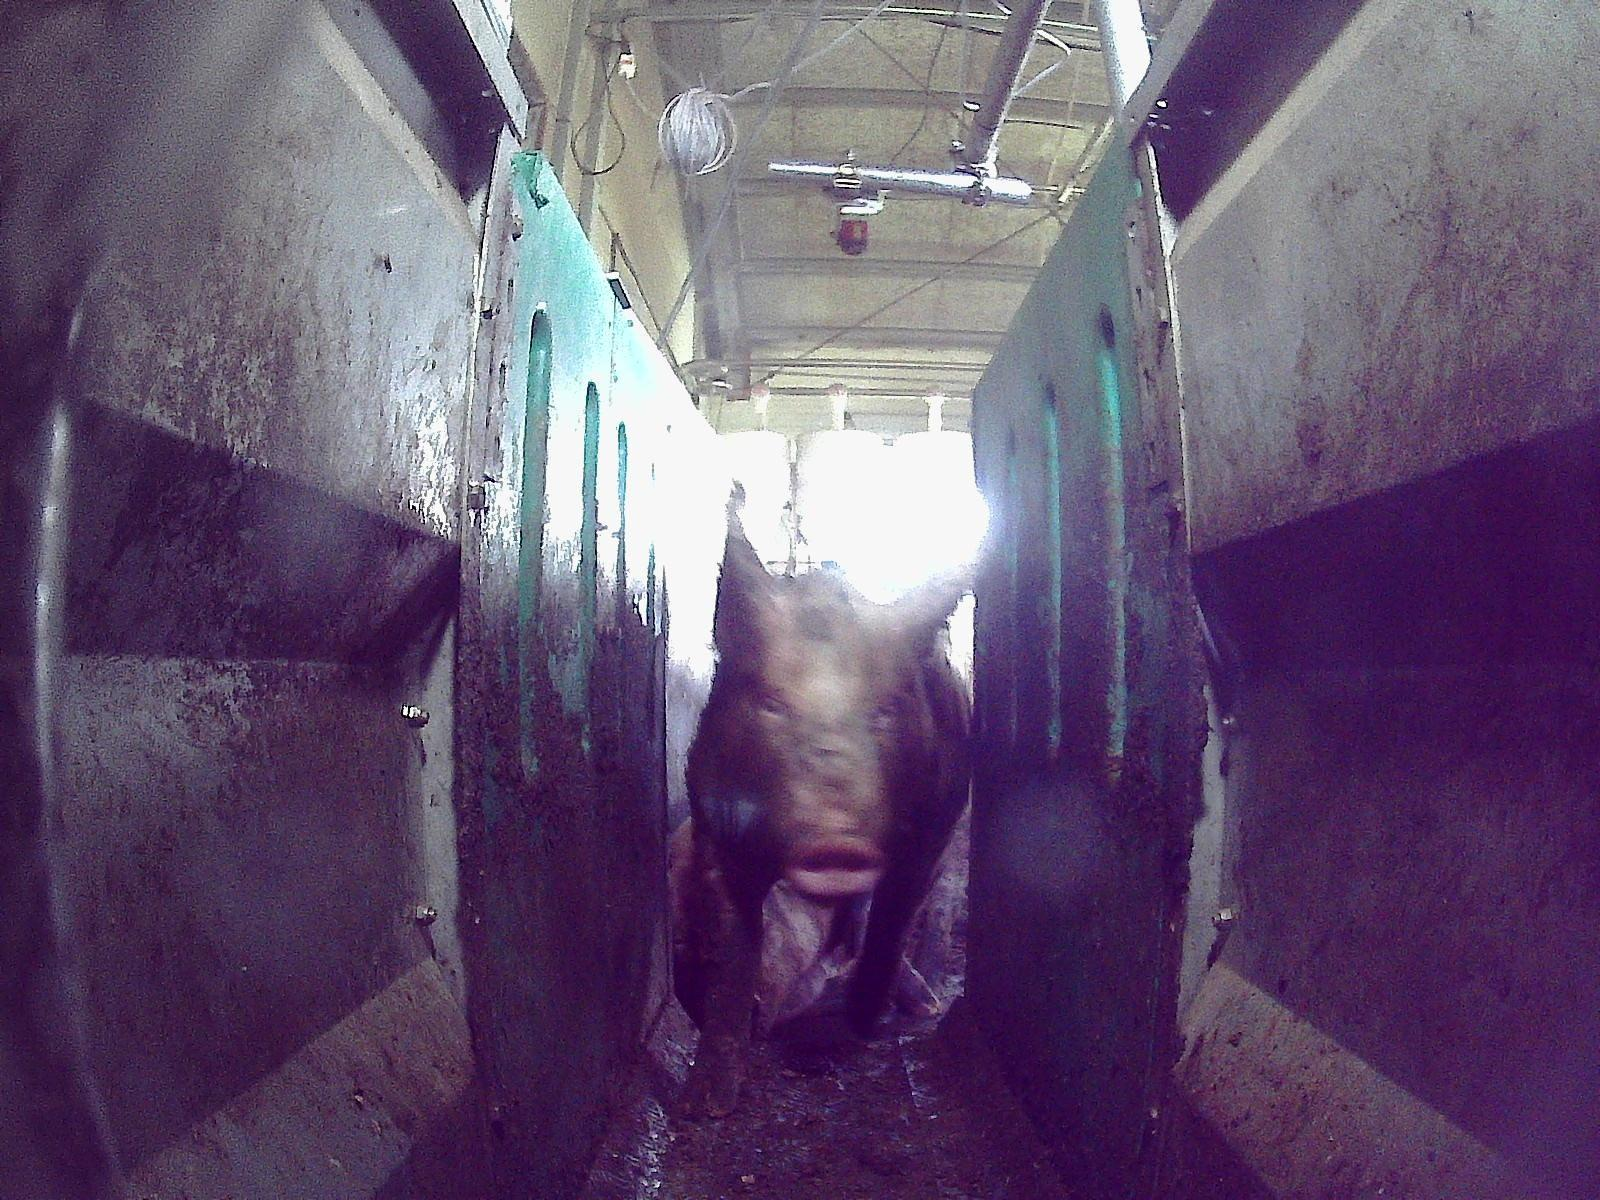Face: (738, 629, 911, 893)
